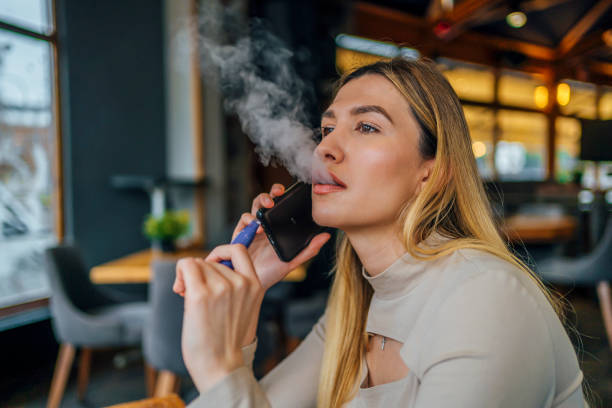cigarette: (222, 216, 261, 269)
